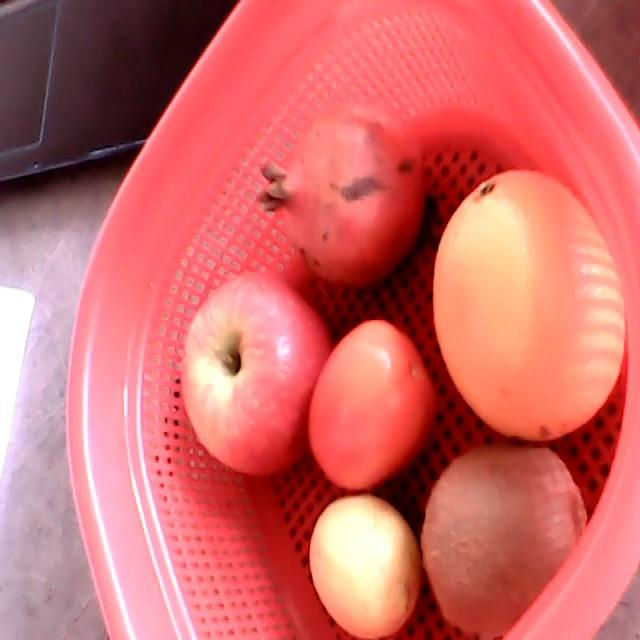apple: (179, 272, 332, 481)
kiwi: (420, 444, 587, 636)
lemon: (310, 494, 421, 638)
orange: (432, 170, 625, 441)
pomegranate: (254, 102, 434, 286)
tomato: (308, 318, 434, 490)
